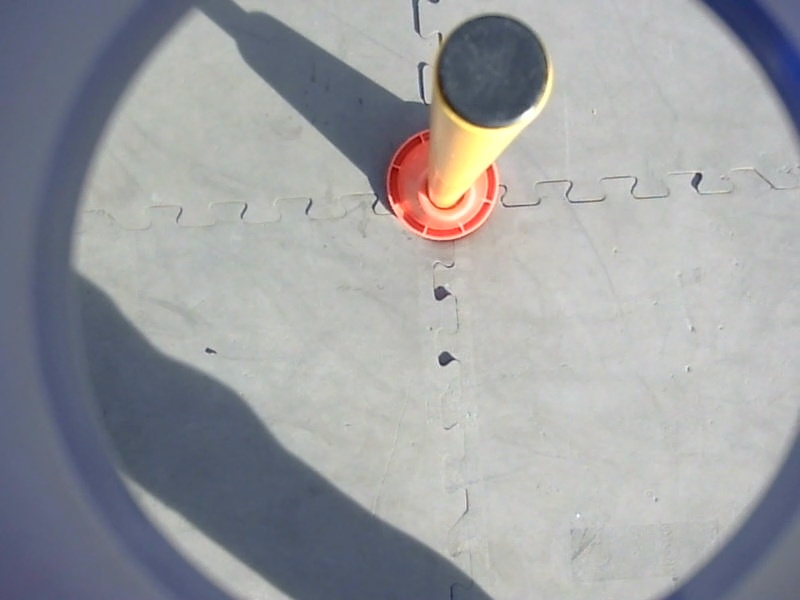tip: (426, 8, 557, 137)
